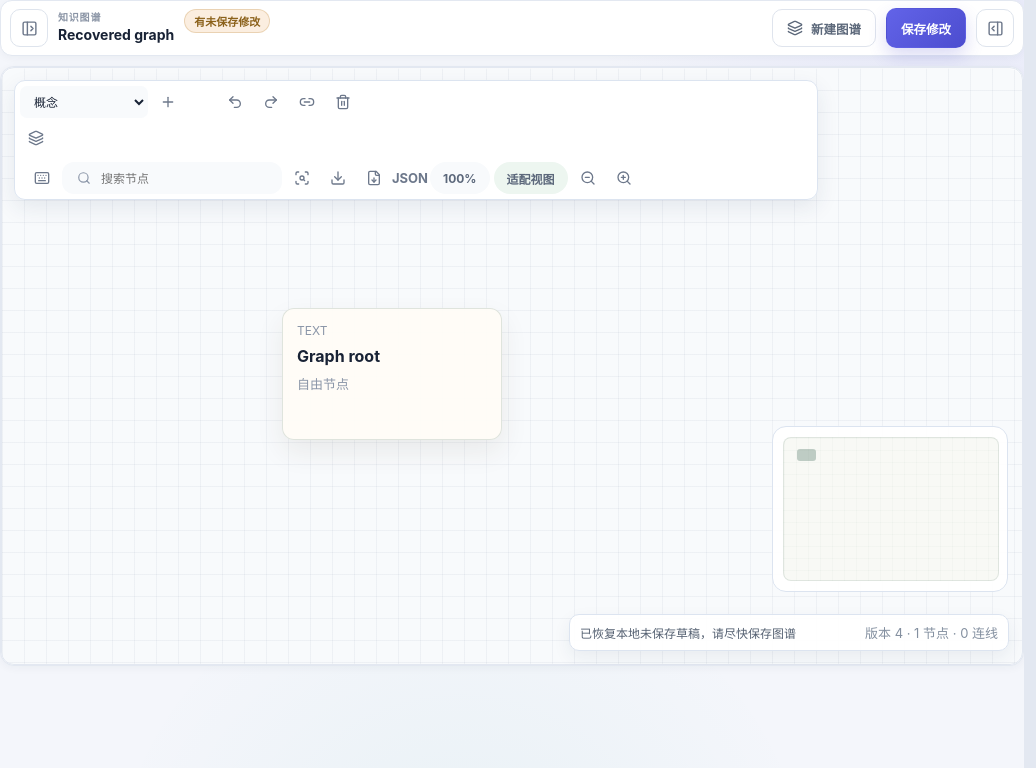
Test: GraphWorkspacePage conflict dependency guard › can clear latest-head group dependency blockers with scope-aware linked suggestions
Click the button "保存修改" at (926, 28), box [886,8,966,48]
(page scrolled)
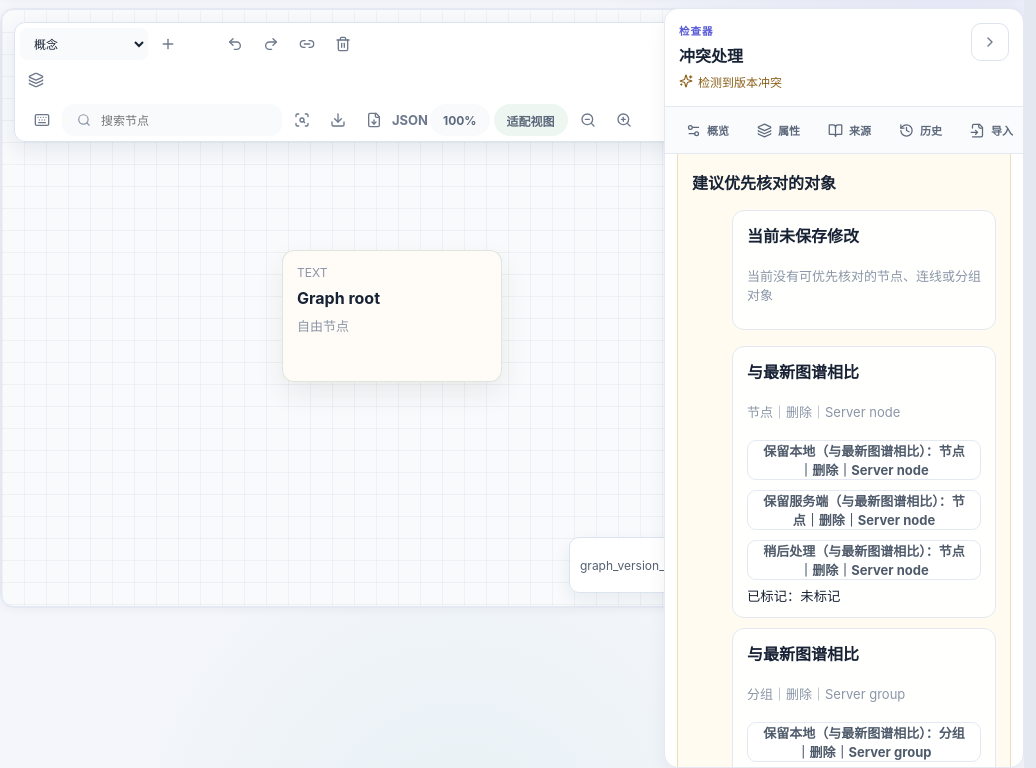
Click the button "保留本地（与最新图谱相比）：节点｜删除｜Server node" at (864, 460), box [747,440,981,480]
(page scrolled)
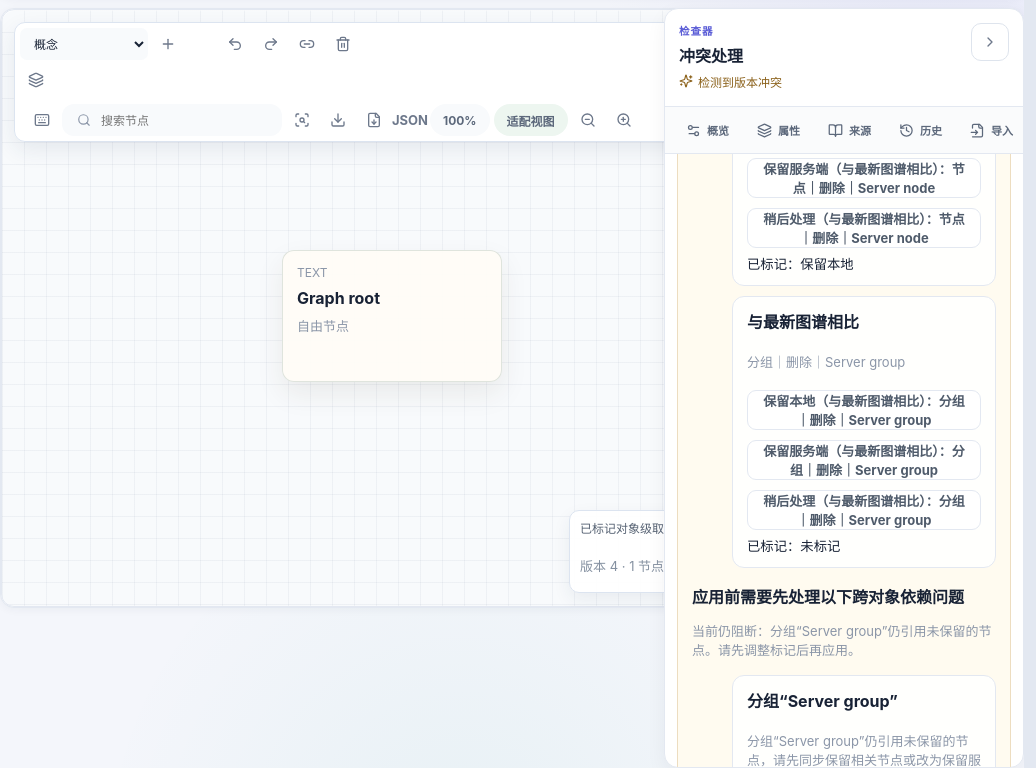
Click the button "保留服务端（与最新图谱相比）：分组｜删除｜Server group" at (864, 460), box [747,440,981,480]
(page scrolled)
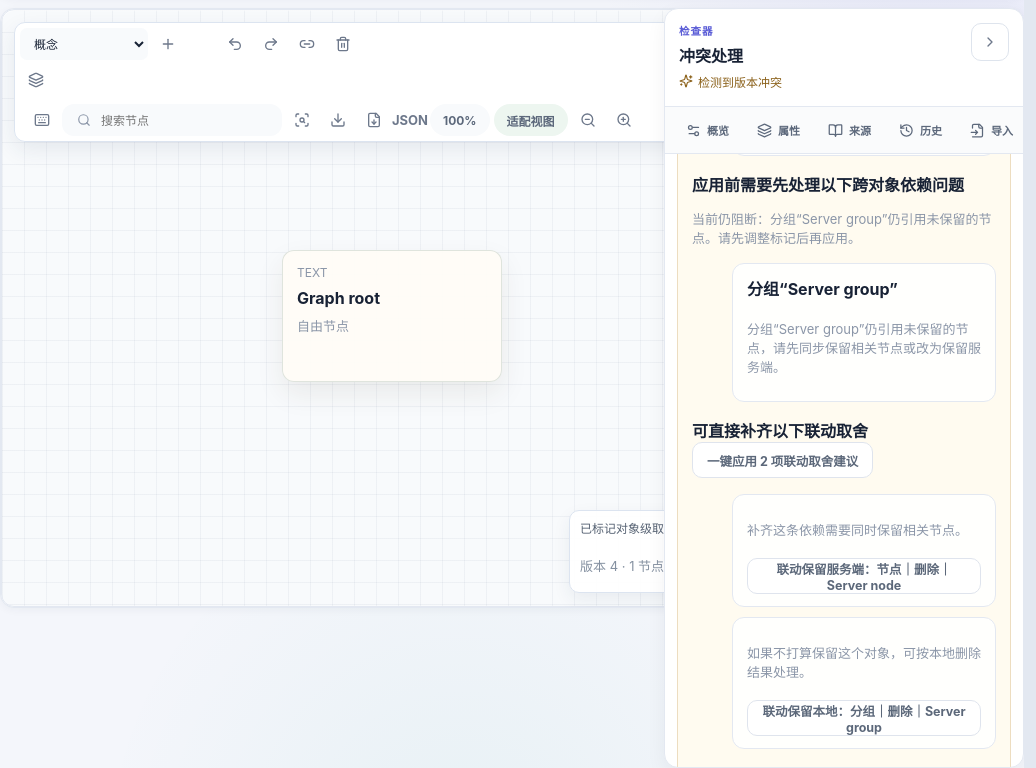
Check: the text "分组“Server group”仍引用未保留的节点，请先同步保留相关节点或改为保留服务端。" is shown, box [747,319,981,376]
Check: the button "联动保留服务端：节点｜删除｜Server node" is shown, box [747,558,981,594]
Check: the button "联动保留本地：分组｜删除｜Server group" is shown, box [747,700,981,736]
Click the button "一键应用 2 项联动取舍建议" at (783, 460), box [692,442,873,478]
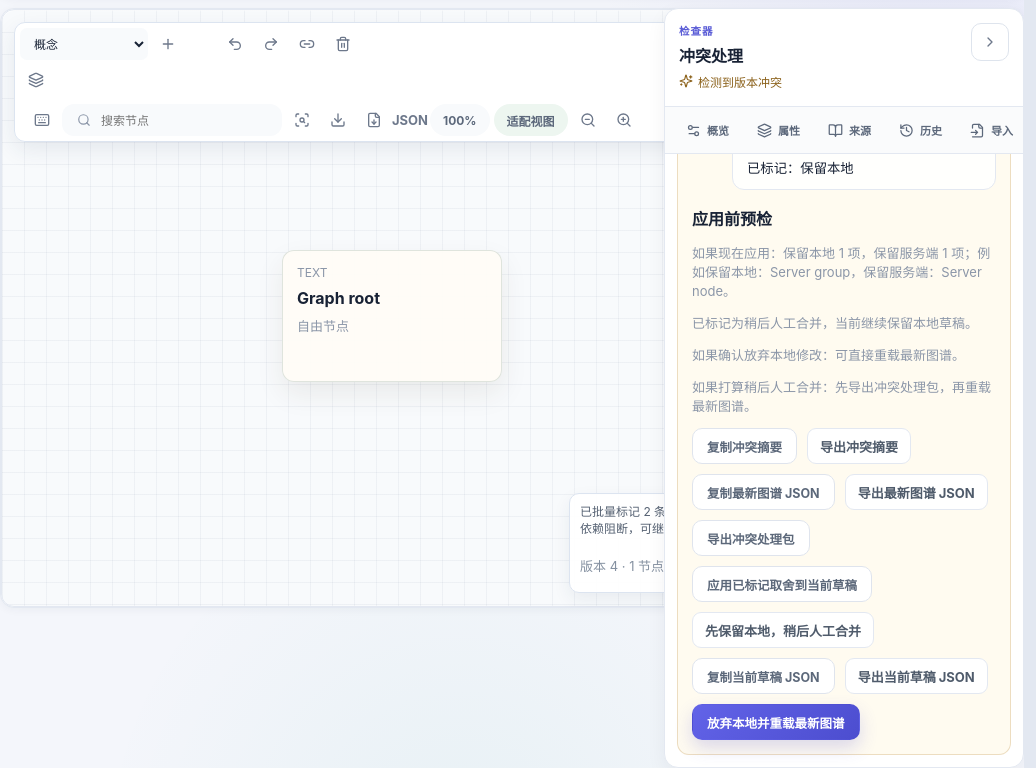
Check: the field labelled "取舍依赖校验问题" is gone
Check: the button "应用已标记取舍到当前草稿" is enabled, box [692,566,872,602]
